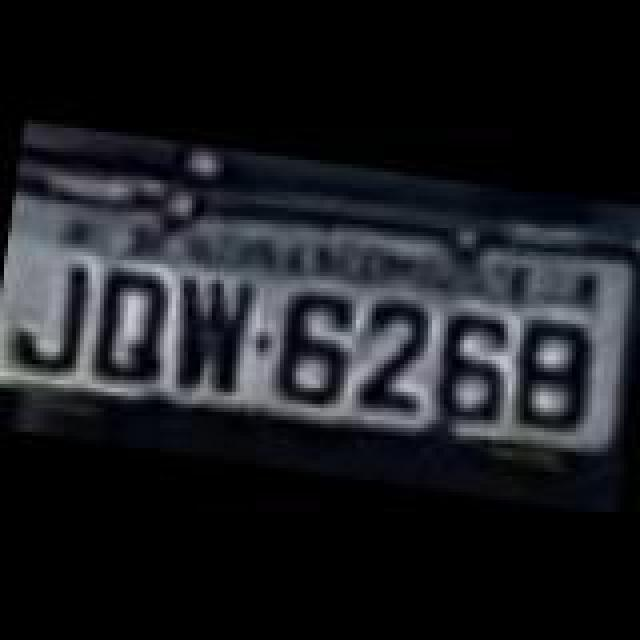2: (346, 298, 438, 422)
6: (274, 290, 366, 414), (428, 304, 516, 432)
8: (510, 314, 602, 446)
J: (12, 256, 100, 384)
Q: (92, 266, 180, 390)
W: (168, 268, 264, 404)
